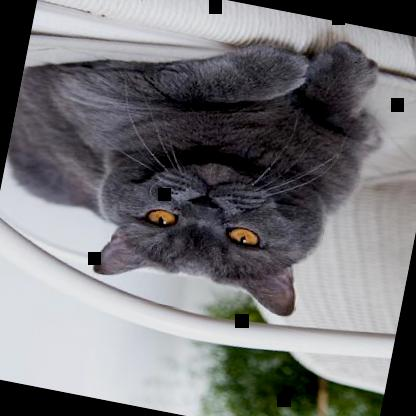cat: (0, 0, 398, 328)
